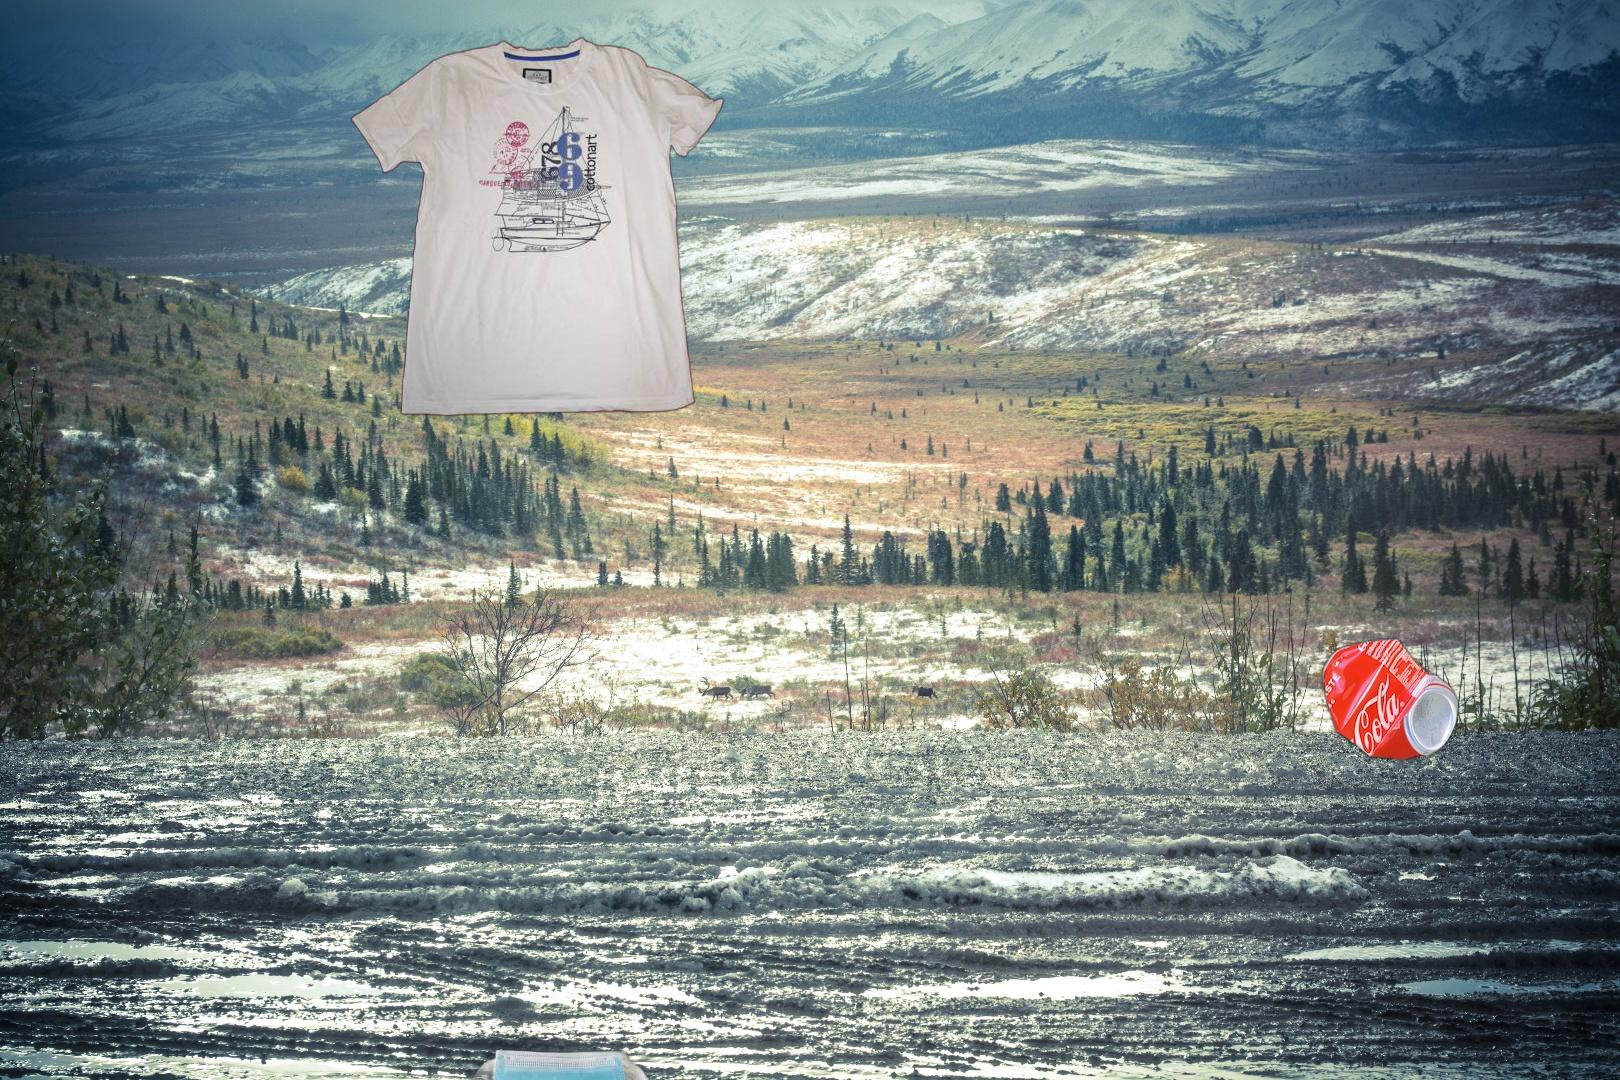clothes: (350, 33, 727, 421)
metal-cans: (1154, 632, 1571, 1080)
trash: (460, 1046, 659, 1080)
